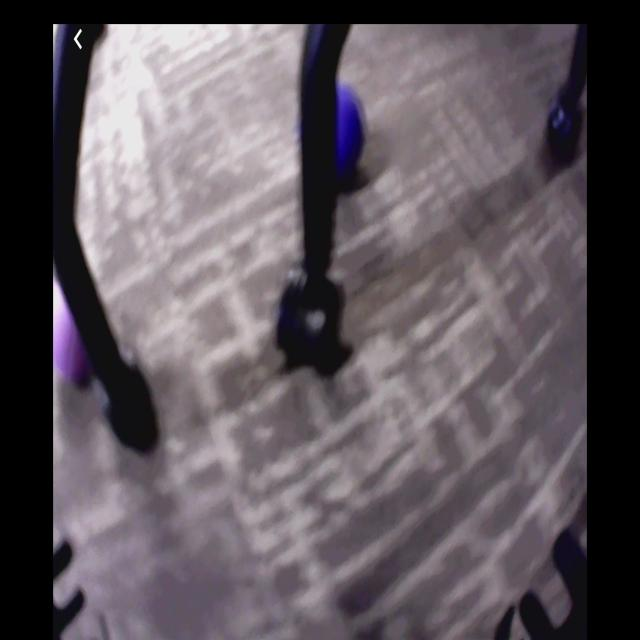ball: (54, 278, 90, 385), (334, 87, 363, 179)
